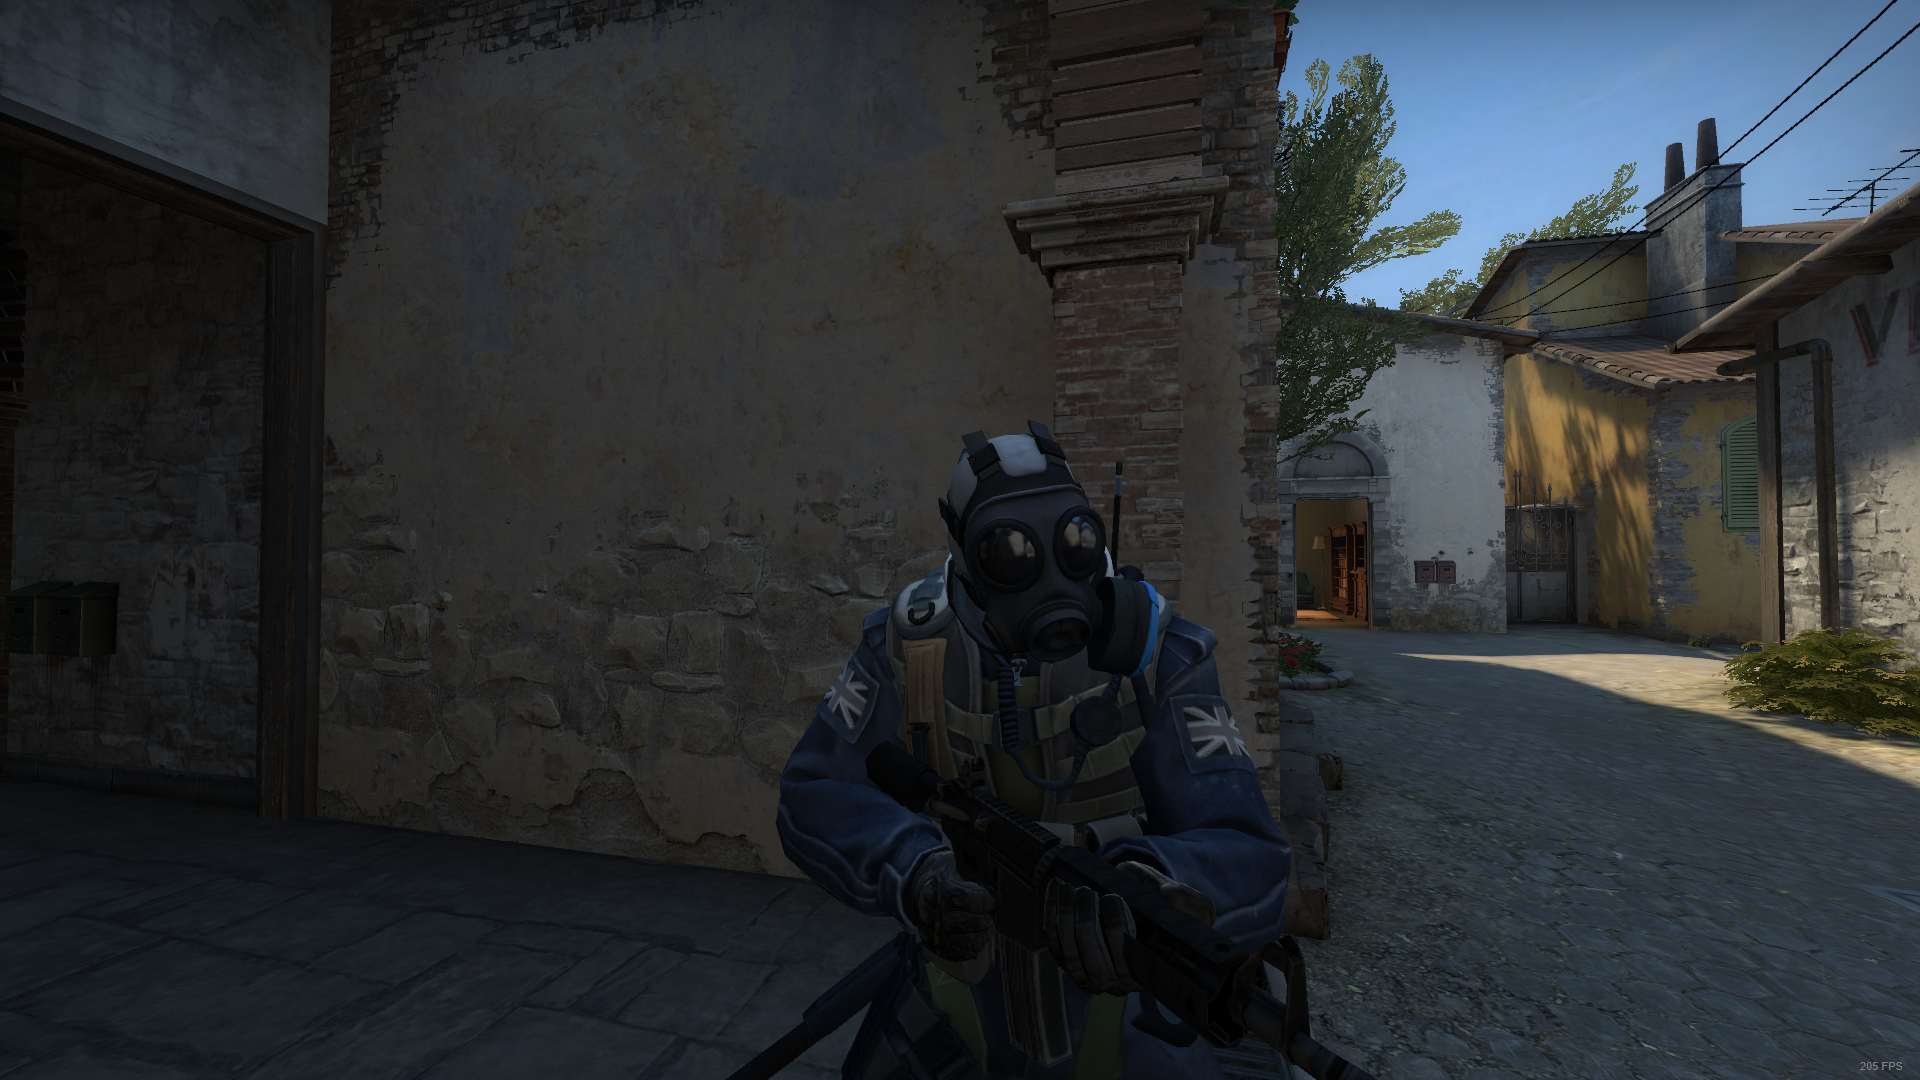ct: (778, 431, 1288, 1080)
